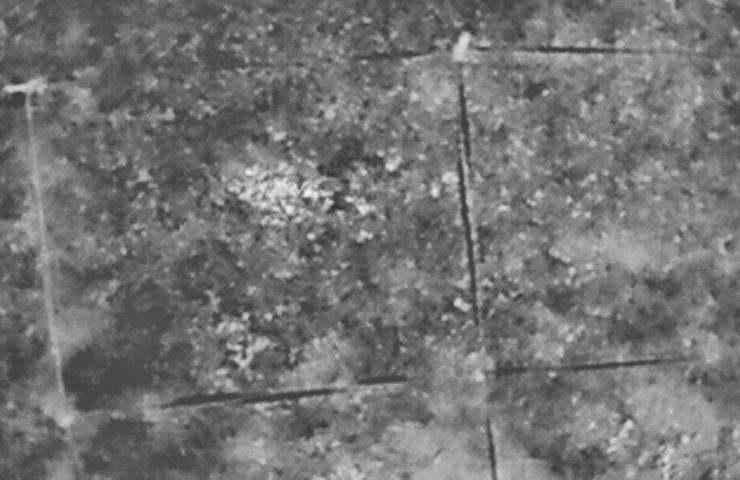landmines: (230, 152, 348, 228)
